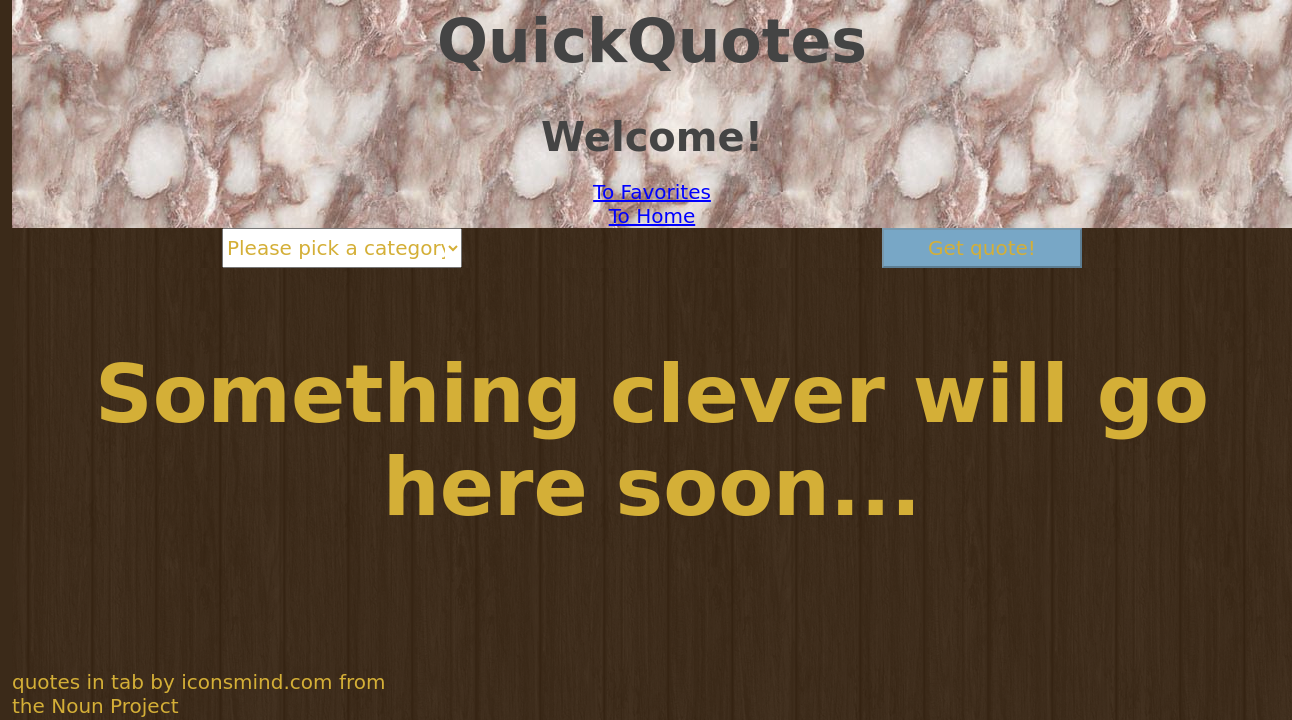
Scenario: quote errors › should render a 404 error
This screenshot has width=1292, height=720.
Select "Wisdom" in the dropdown at (342, 248), box [222,228,462,268]
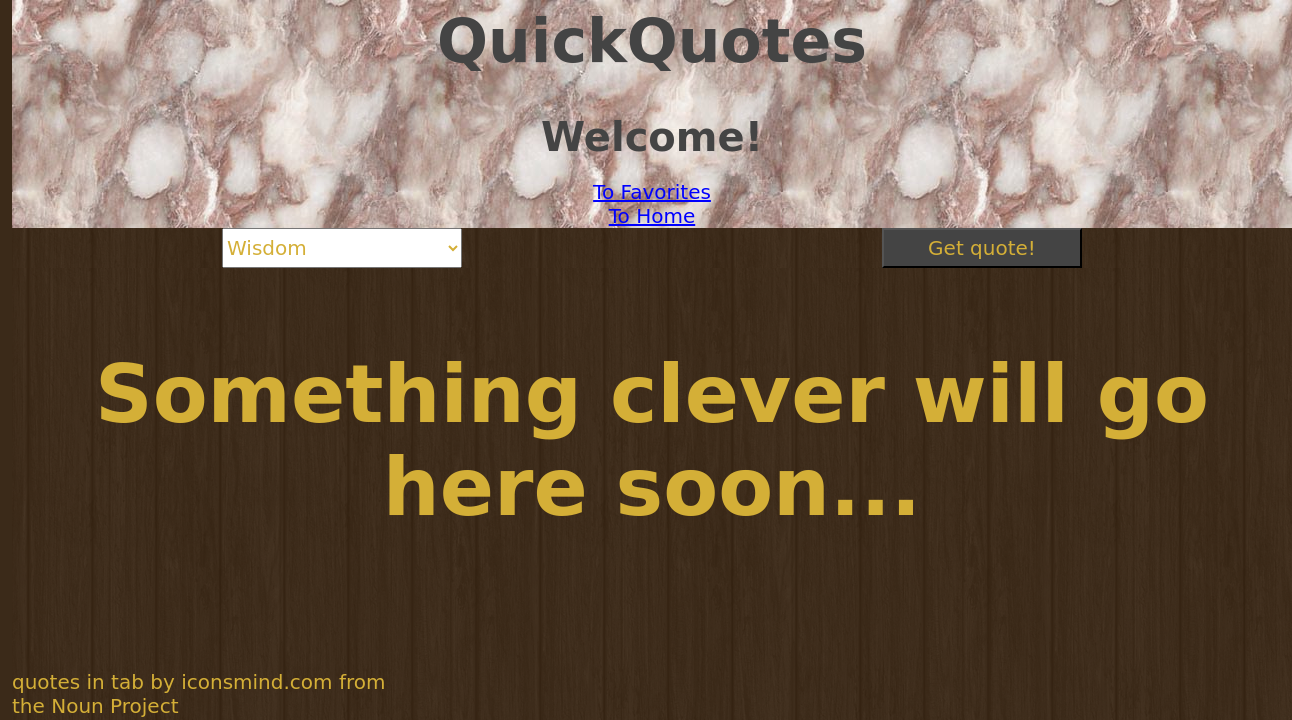
Click the button "Get quote!".
click(982, 248)  # box [882,228,1082,268]
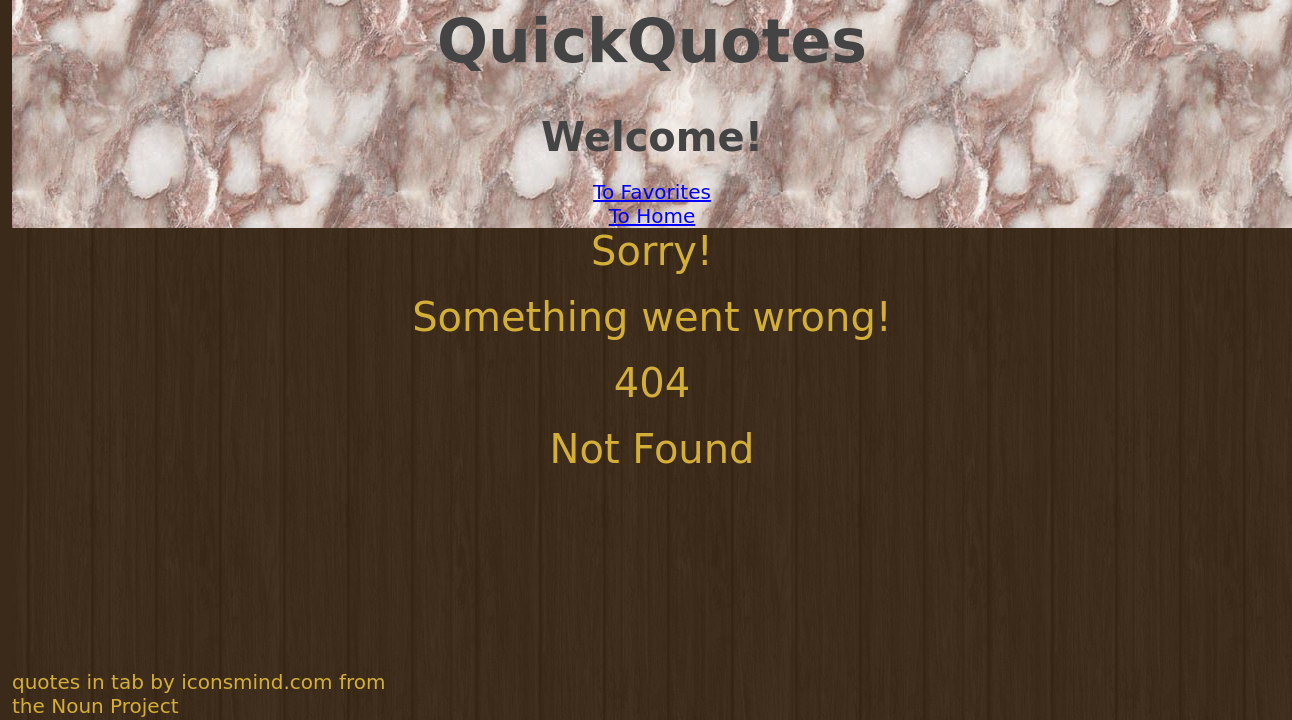
Expected: the text "Not Found" is shown, [550,426,754,472]
